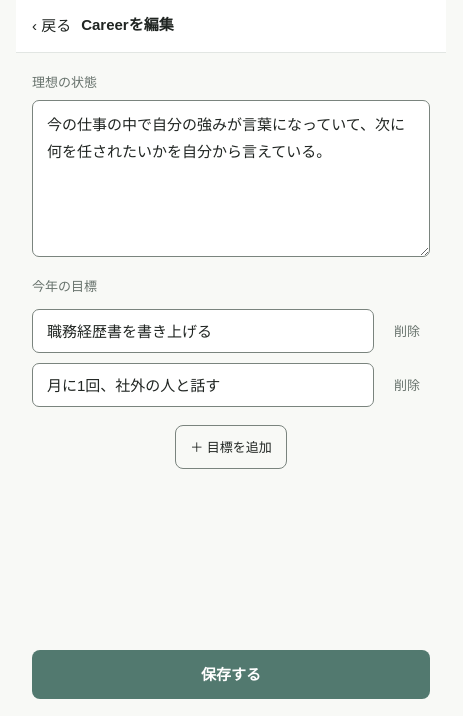
Test: S-58 › 保存に失敗したらエラーを表示し、入力は消えない
Replace the text in the text box with id "s58-ideal-state" with "書き換えた理想の状態。": (231, 179) [32,100,430,257]
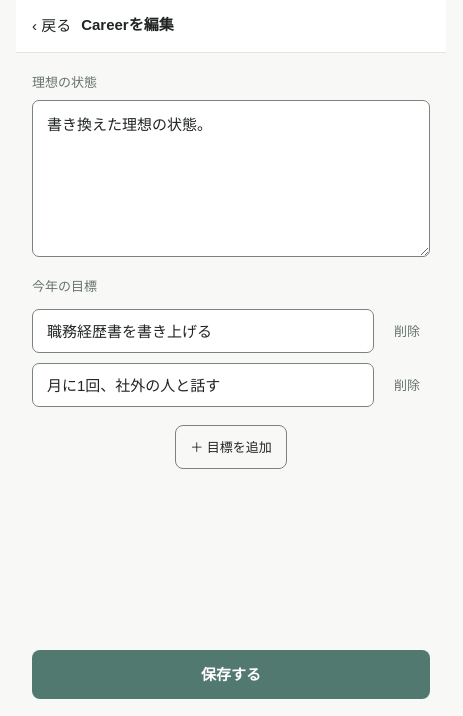
Click the button "保存する": (231, 674) [32,650,430,699]
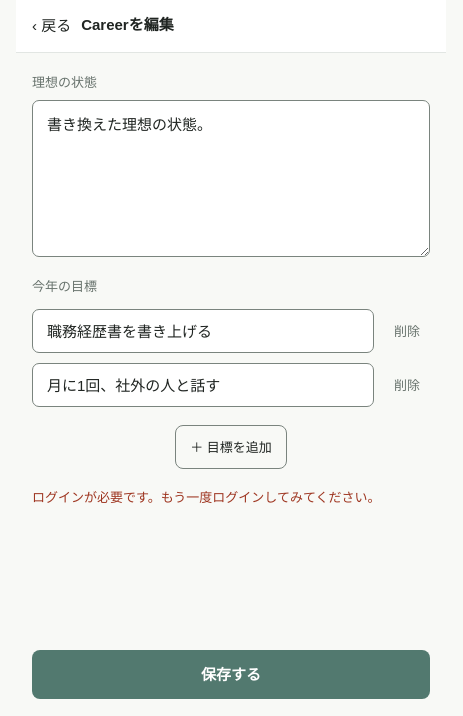
Check: the text "ログインが必要です。もう一度ログインしてみてください。" is shown, box [32,487,430,509]
